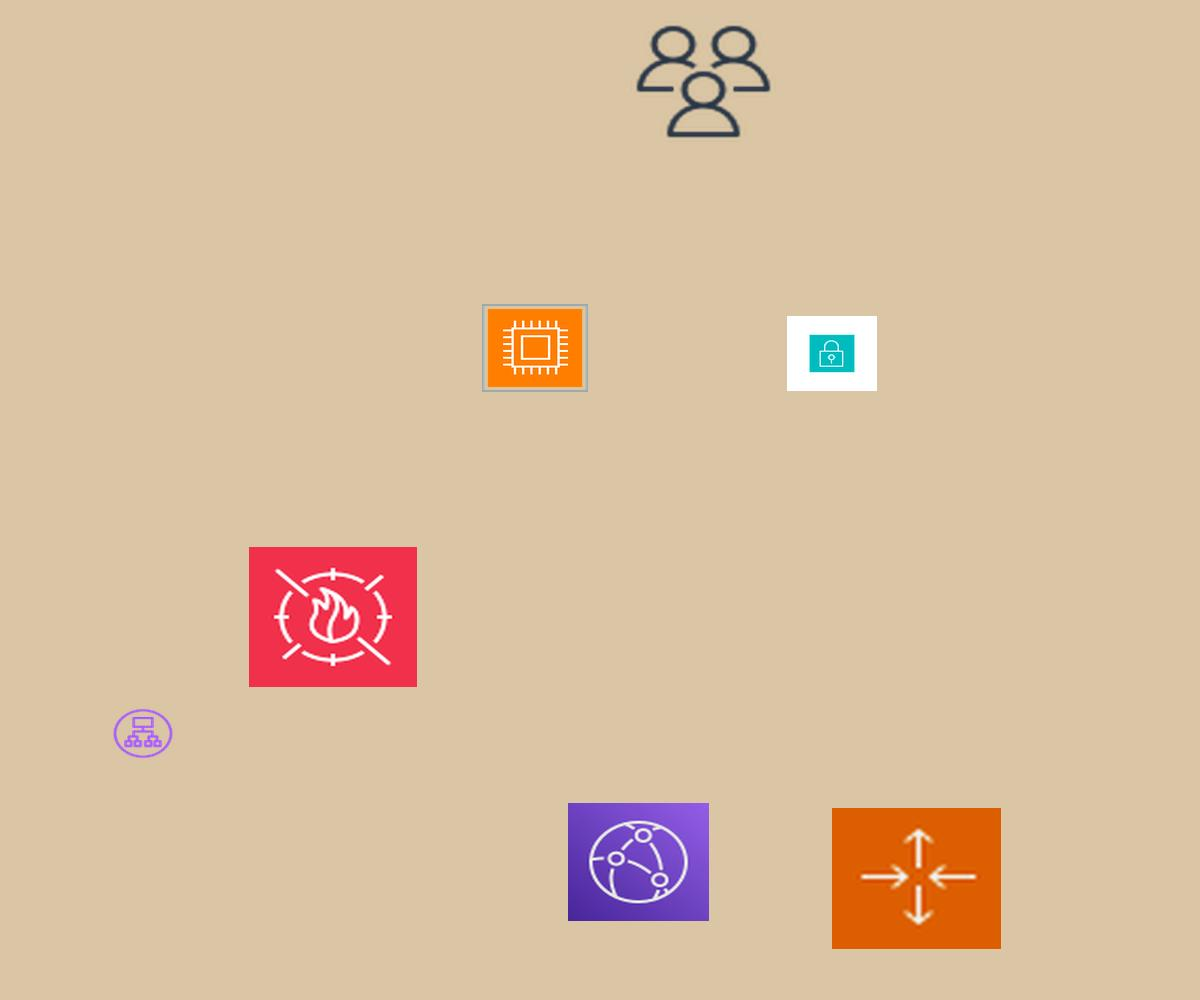AWS-Category_Compute: (482, 304, 588, 392)
AWS-CloudFront: (568, 803, 709, 921)
AWS-Private-subnet: (787, 316, 877, 391)
AWS-Res_Elastic-Load-Balancing_Application-Load-Balancer: (111, 707, 175, 760)
AWS-Res_Users: (631, 21, 776, 142)
AWS-Scaling-group: (832, 808, 1001, 949)
AWS-WAF: (249, 547, 417, 687)
